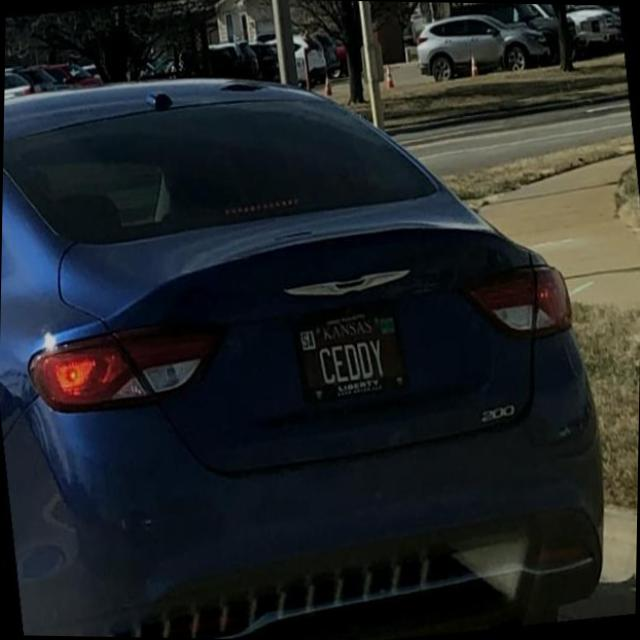LicensePlate: (289, 299, 409, 406)
